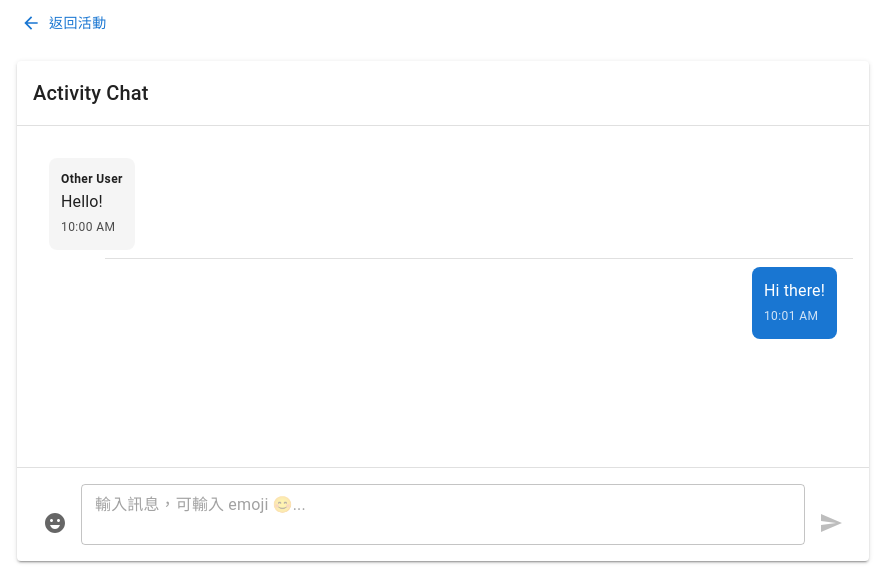
Test: ChatPage › should handle socket disconnection gracefully
Expected: the text "Hello!" is shown, [61,192,103,211]
In the text box with placeholder "輸入訊息，可輸入 emoji 😊...": {"x": 443, "y": 514} [95,492,791,536], type "Test message"
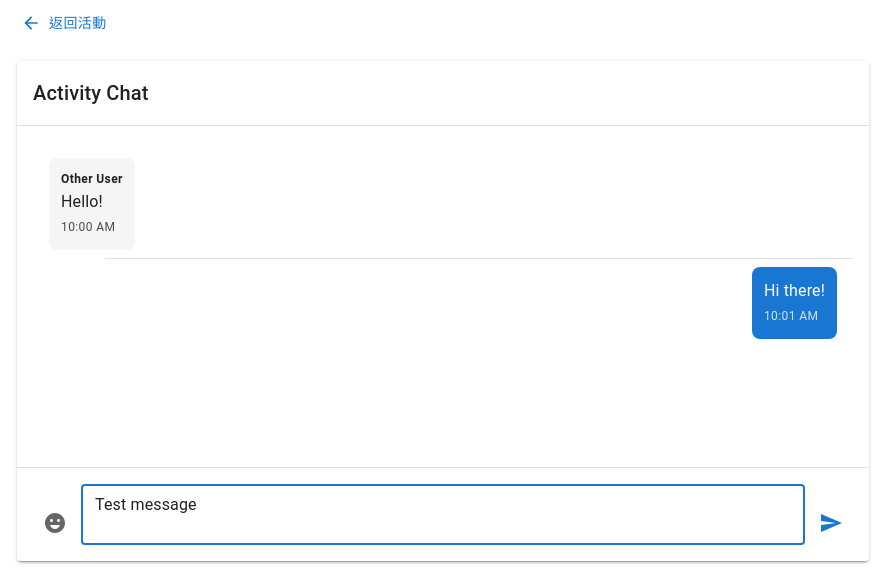
Click the button with test id "SendIcon": {"x": 831, "y": 523} [809,501,853,545]
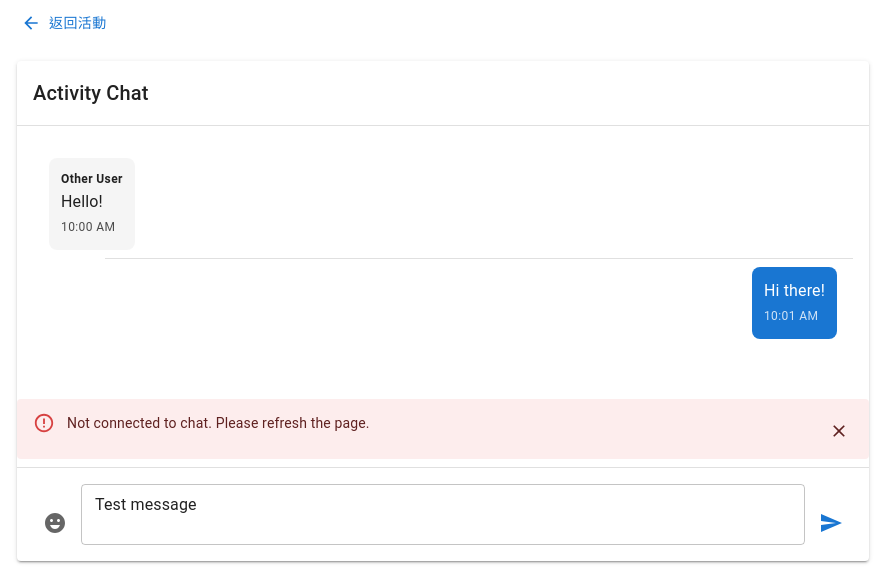
Result: the text "Not connected to chat. Please refresh the page." is shown at [67,415,370,431]
